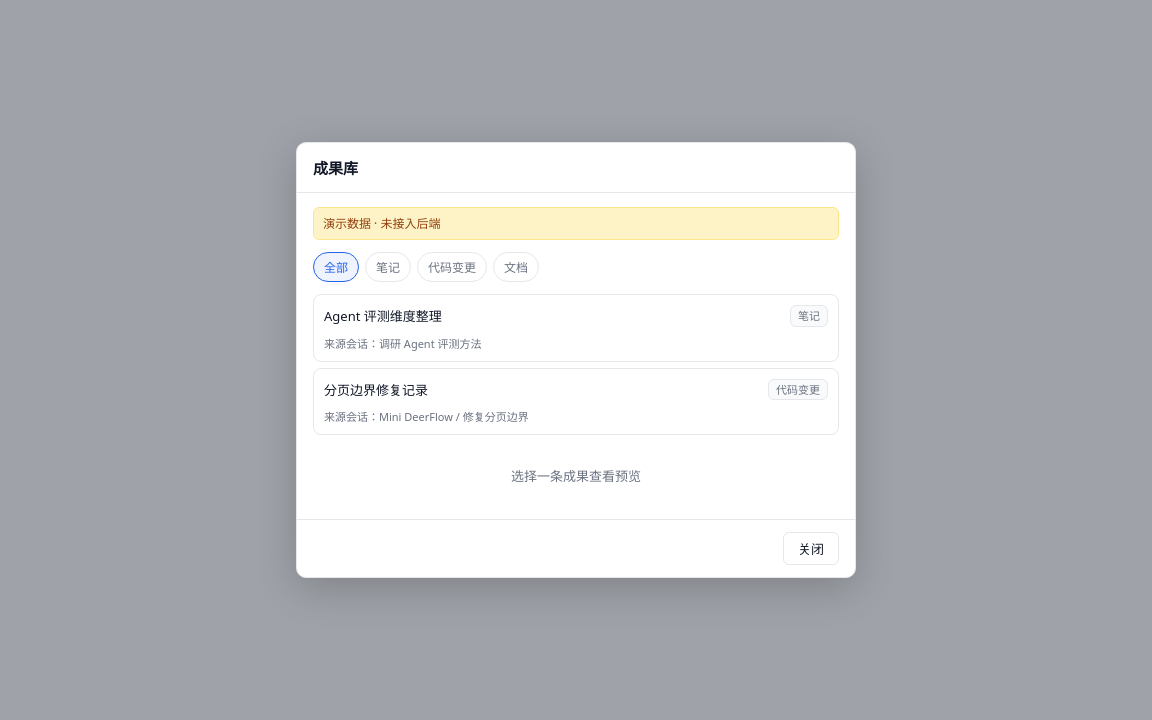
Test case: ArtifactsDialog — 预览与导出 › 未选中显示提示；点击条目切换预览内容
Expected: the text "选择一条成果查看预览" is shown, [511,467,641,485]
Click the button "Agent 评测维度整理 笔记 来源会话：调研 Agent 评测方法" at (383, 316), box [313,294,839,362]
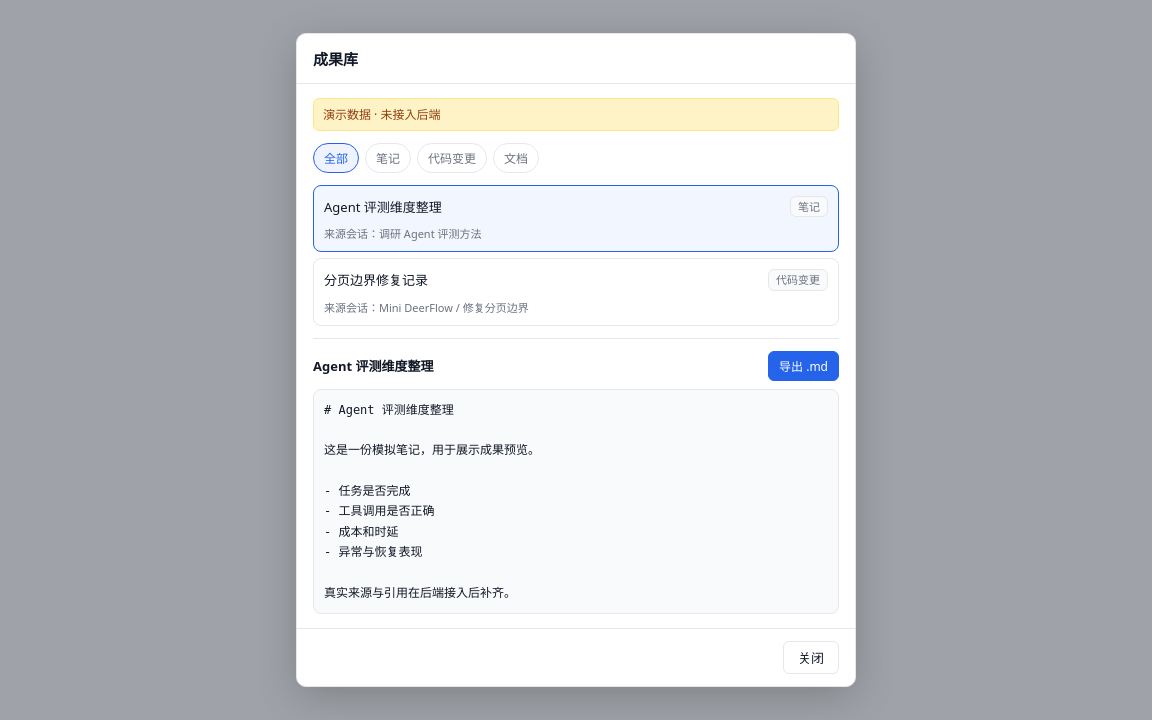
Expected: the text with test id "artifact-preview" shows "# Agent 评测维度整理", [324,402,540,600]
Click the button "分页边界修复记录 代码变更 来源会话：Mini DeerFlow / 修复分页边界" at (376, 280), box [313,258,839,326]
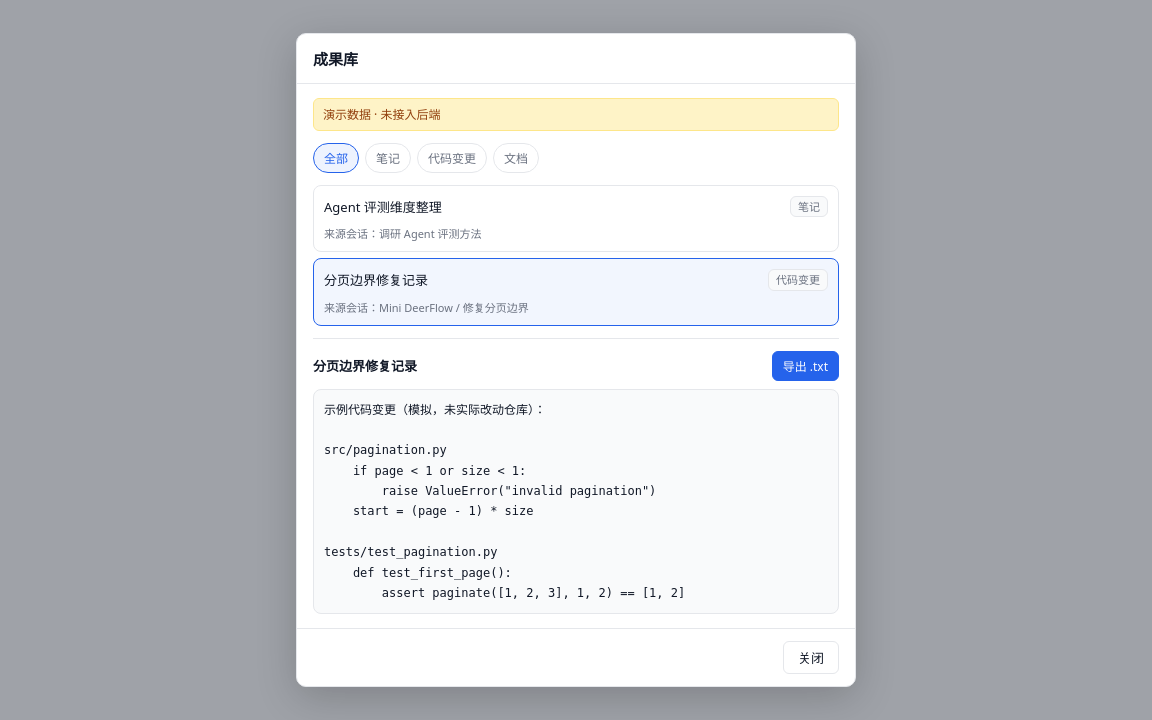
Expected: the text with test id "artifact-preview" shows "示例代码变更", [324,402,685,600]
Expected: the text with test id "artifact-preview" no longer shows "# Agent 评测维度整理"
Expected: the text with test id "artifact-preview" shows "if page < 1", [324,402,685,600]
